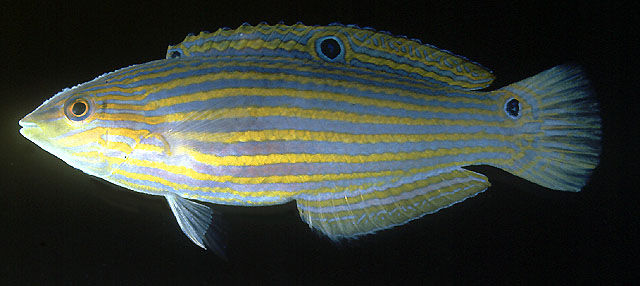fish: (18, 21, 603, 252)
